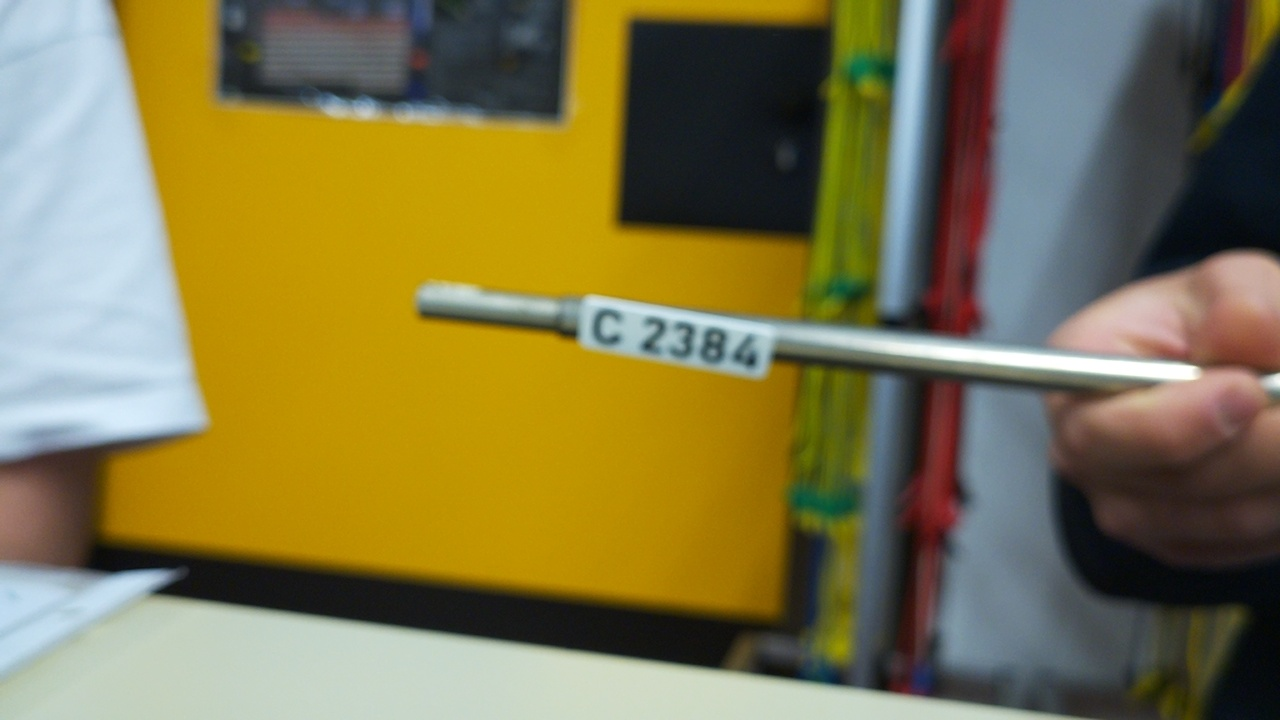license_plate: (577, 291, 776, 380)
